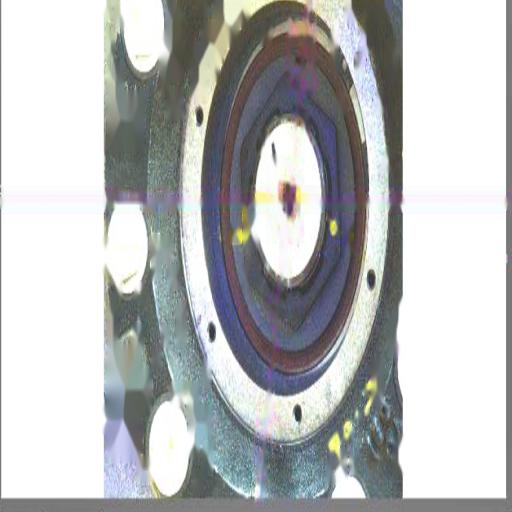center: (280, 186, 298, 226)
notch: (293, 49, 311, 75)
